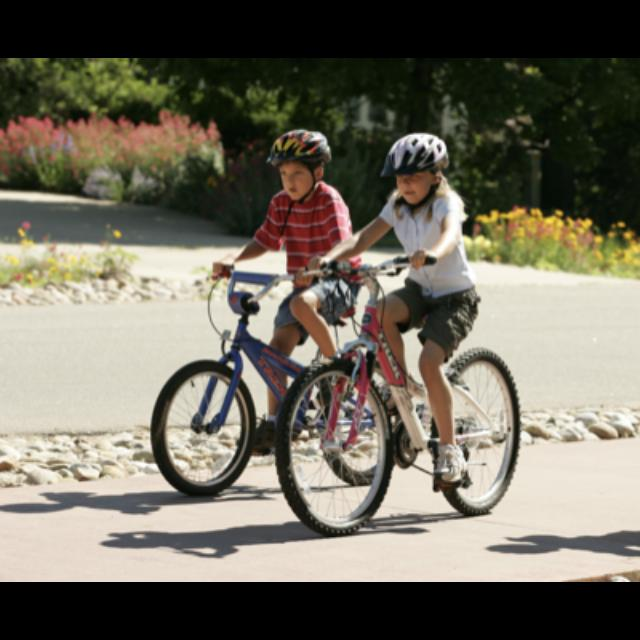With Helmet: (262, 120, 338, 202), (378, 127, 456, 205)
